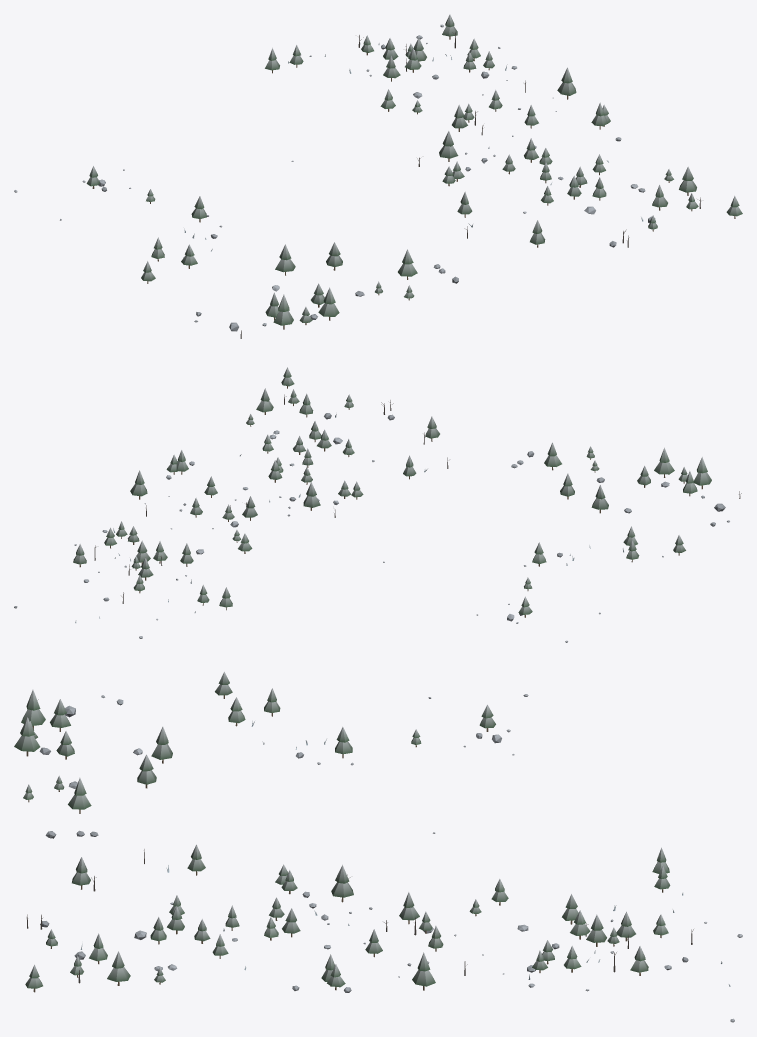
File: frost_land_scatter_c14_09_lod1.glb
The picture shows the model from 3 angles, top to bottom: view 1: azimuth 30°, elevation 25°; view 2: azimuth 150°, elevation 25°; view 3: azimuth 270°, elevation 25°; orthographic projection. The views are drawn at different scales.
Parts seen in each view (by area): view 1: frost_land_scatter_c14_09_lod1; view 2: frost_land_scatter_c14_09_lod1; view 3: frost_land_scatter_c14_09_lod1.
Boxes of the visible parts, x1,y1,x2,y2 form: frost_land_scatter_c14_09_lod1: (14,14,742,338); frost_land_scatter_c14_09_lod1: (14,367,741,642); frost_land_scatter_c14_09_lod1: (14,672,742,1022).
Size of the model in its own units: 254 by 28.68 by 261.
